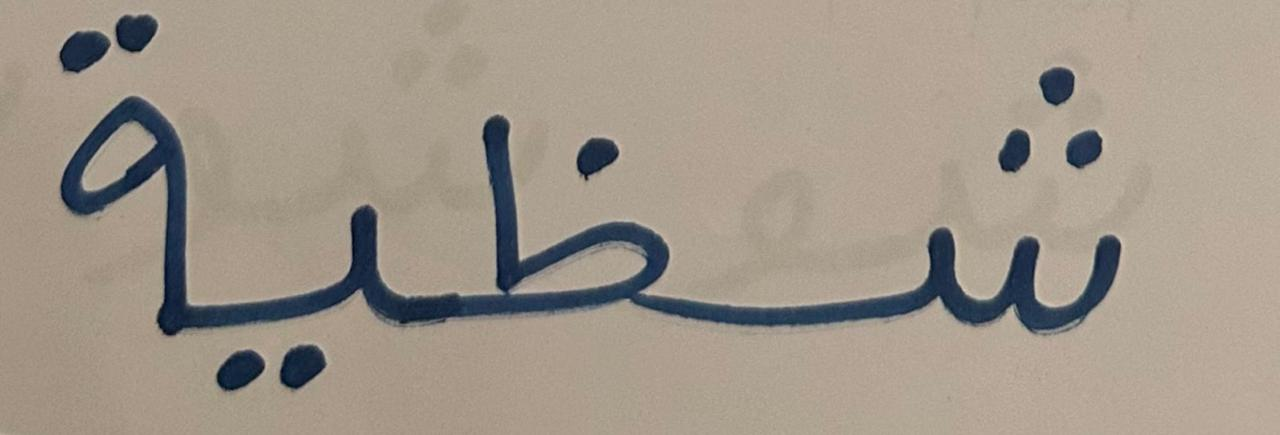tah: (759, 16, 1220, 402)
thal: (26, 1, 205, 390)
zah: (208, 101, 399, 409)
zain: (402, 7, 754, 380)
